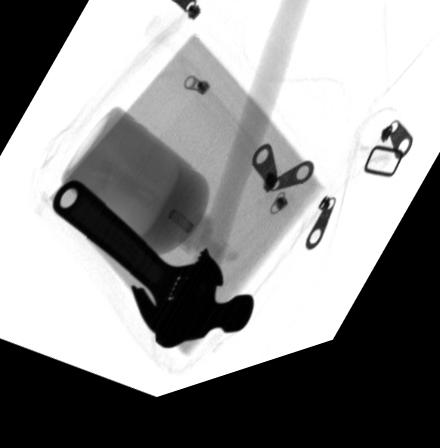Hammer: (128, 0, 314, 351)
Wrench: (51, 183, 222, 355)
